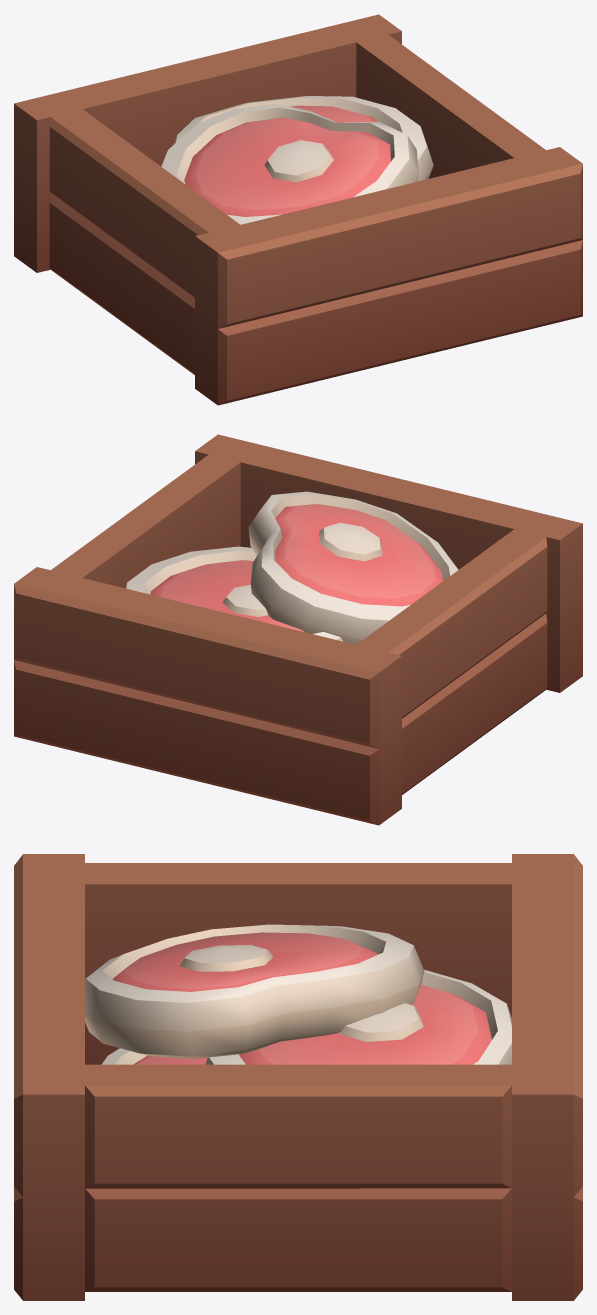
The model's file is kay-crate_steak.glb.
3 renders of one model, top to bottom at view 1: azimuth 30°, elevation 25°; view 2: azimuth 150°, elevation 25°; view 3: azimuth 270°, elevation 25°, orthographic. The views are drawn at different scales.
Parts seen in each view (by area): view 1: crate_steak; view 2: crate_steak; view 3: crate_steak.
Boxes of the visible parts, box(x1,y1,x2,y2) form: crate_steak: box(14, 14, 582, 405); crate_steak: box(14, 434, 582, 825); crate_steak: box(14, 854, 582, 1300).
Bounding box in the file's own units: 0.6 × 0.2631 × 0.6.
1 material, 1 textured.
